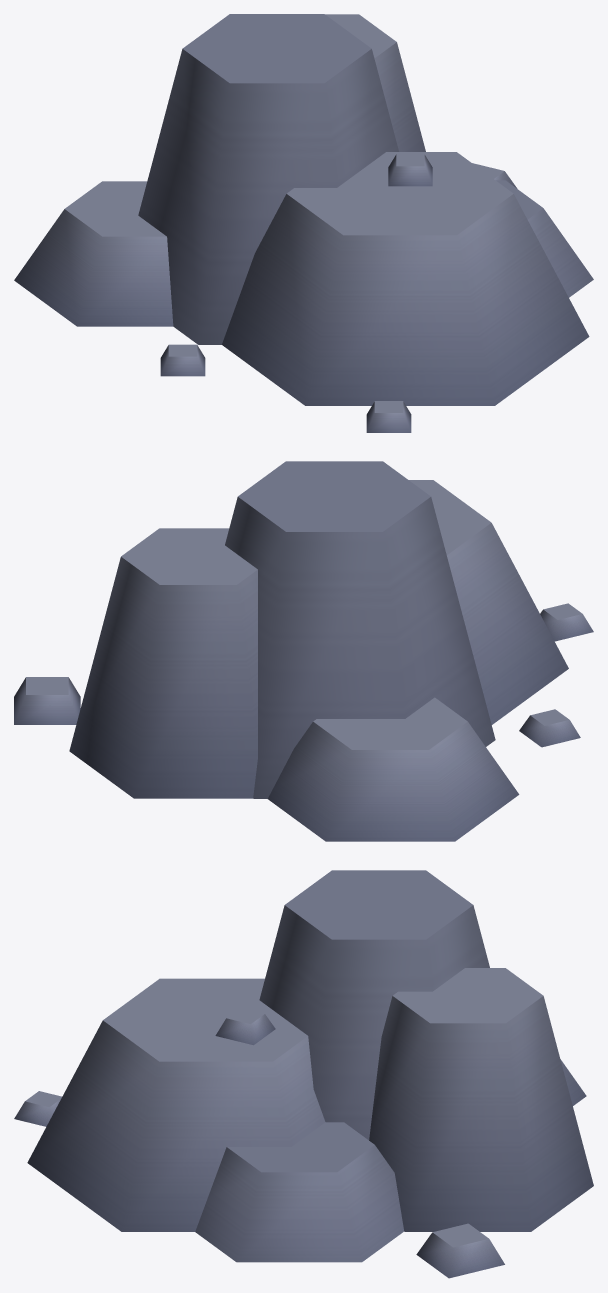
The model's file is rocks-small.obj.
3 renders of one model, top to bottom at view 1: azimuth 30°, elevation 25°; view 2: azimuth 150°, elevation 25°; view 3: azimuth 270°, elevation 25°, orthographic. The views are drawn at different scales.
Visible parts, largest first — view 1: rocks-small; view 2: rocks-small; view 3: rocks-small.
Part boxes in pixels (x1,y1,x2,y2): rocks-small: [14, 14, 593, 432]; rocks-small: [14, 461, 593, 841]; rocks-small: [14, 870, 593, 1278].
Size of the model in its own units: 1.03 by 0.5 by 1.11.
Materials: 1 (1 with a texture image).
